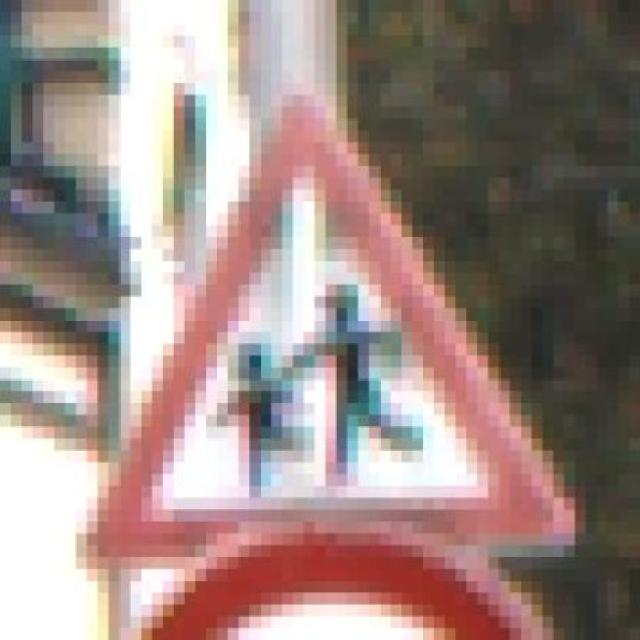Beware of children: (54, 83, 586, 580)
